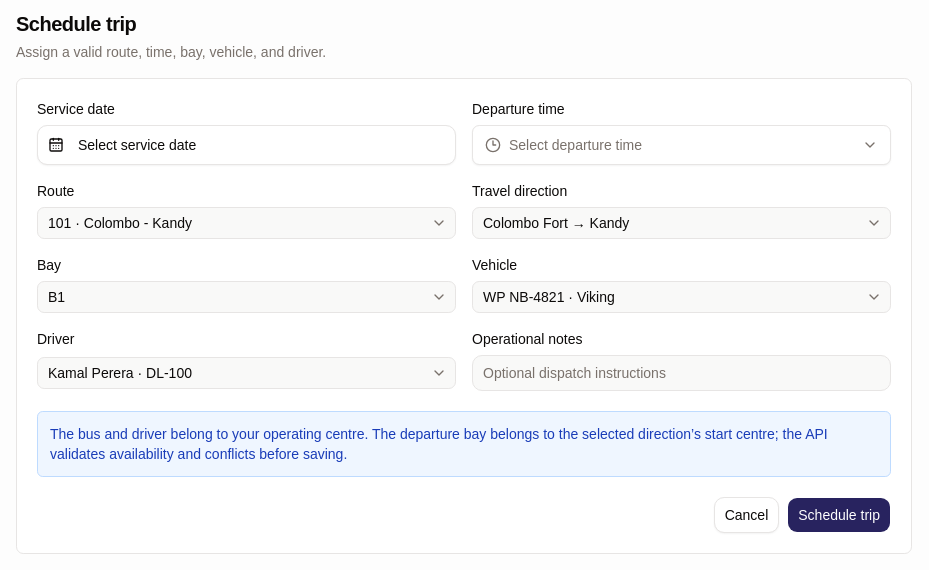
Test case: TripFormPage: create › only offers bays that are available
Expected: the text "101 · Colombo - Kandy" is shown, [48,215,192,231]
What coordinates should you click on to do the following:
click the dropdown named "Bay"
I would click on:
 (57, 297)
Its box is [37,281,456,313].
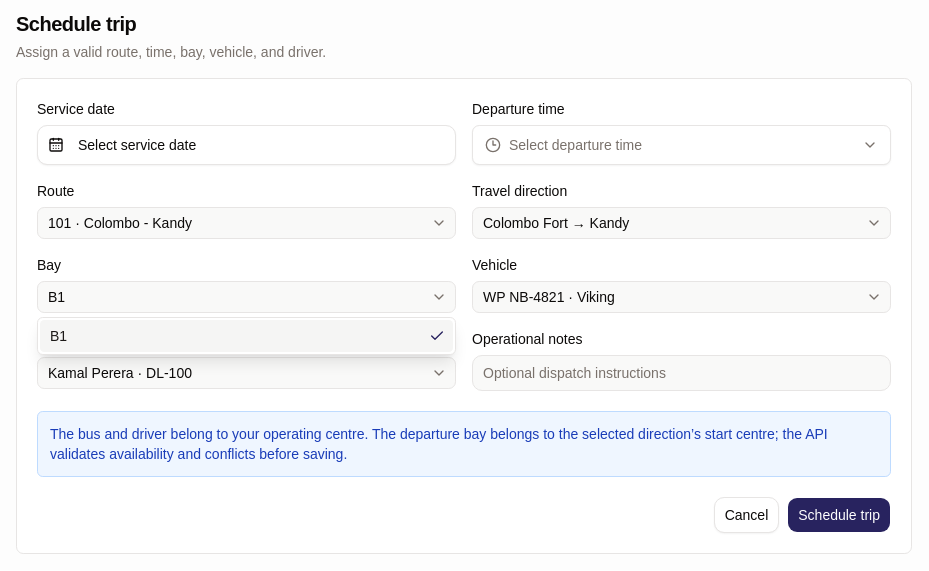
Expected: the options read "B1", in this order, [40,320,453,352]
